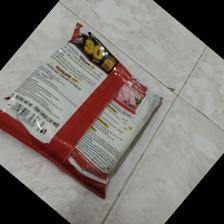Kokomi: (1, 21, 165, 200)
